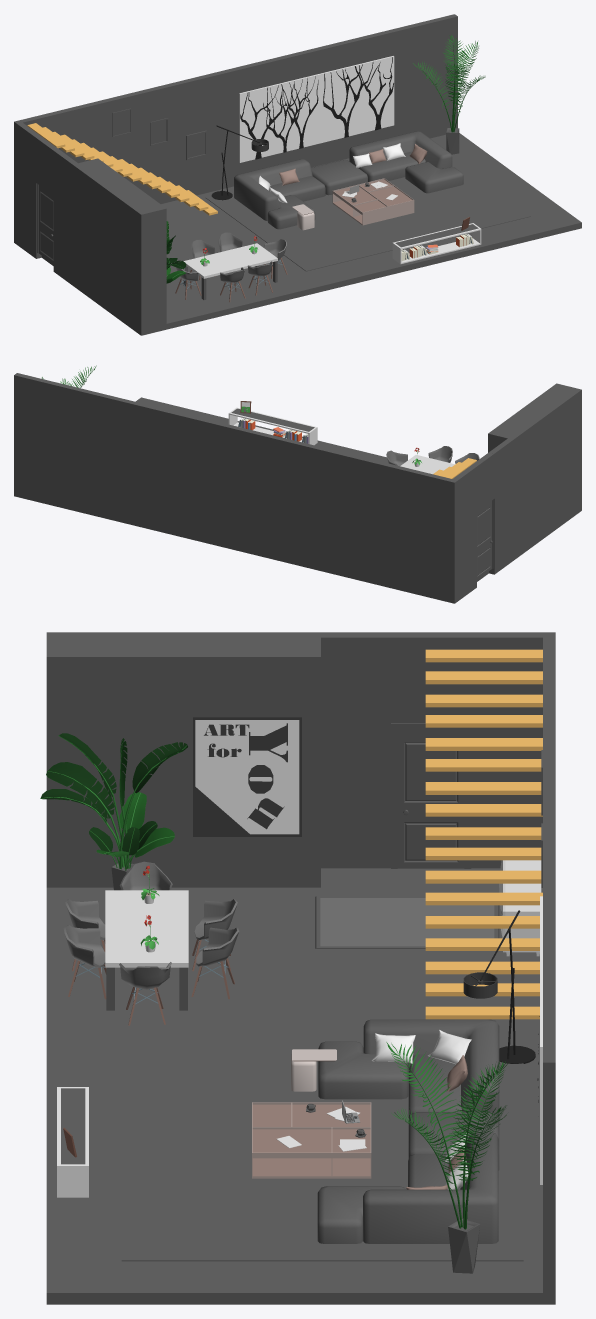
File: cozy02.glb
3 views of the same model, one above another, from view 1: azimuth 30°, elevation 25°; view 2: azimuth 150°, elevation 25°; view 3: azimuth 270°, elevation 25° (orthographic). The views are drawn at different scales.
Parts seen in each view (by area): view 1: polySurface2; view 2: polySurface2; view 3: polySurface2.
Part boxes in pixels (x1,y1,x2,y2): polySurface2: [14, 14, 581, 335]; polySurface2: [14, 365, 581, 603]; polySurface2: [40, 632, 555, 1304].
Bounding box in the file's own units: 20.96 × 5.38 × 10.37.
Materials: 1 (1 with a texture image).
